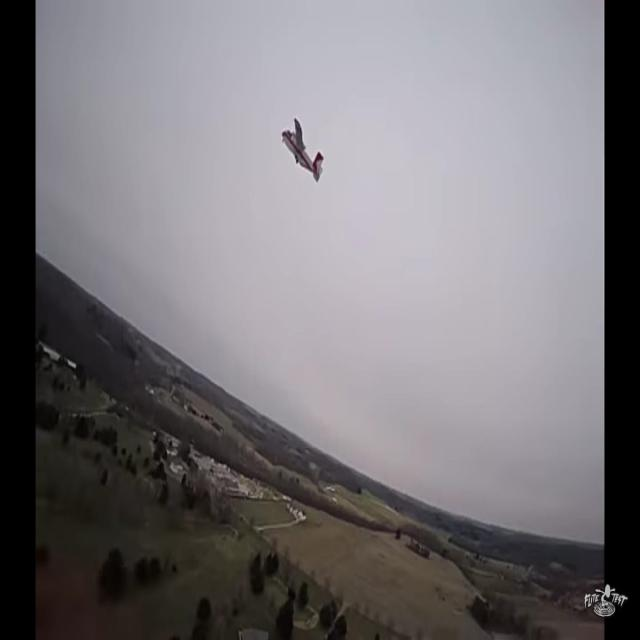iha: (282, 149, 324, 151)
